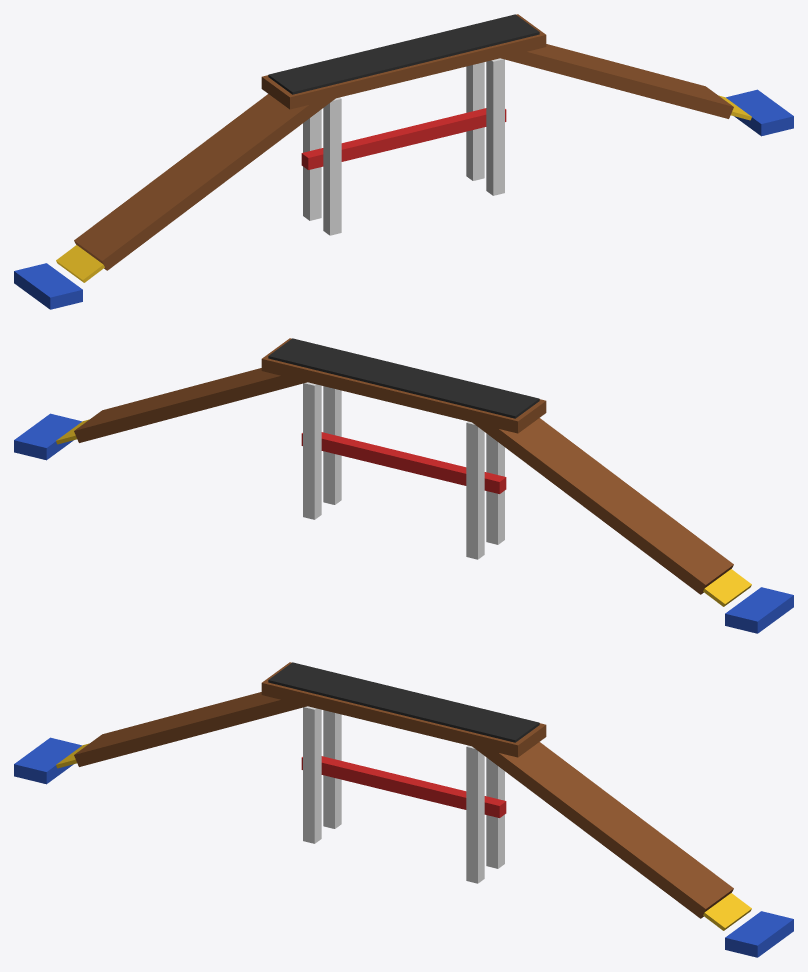
File: dog_dog_walk.obj
The picture shows the model from 3 angles, top to bottom: view 1: azimuth 30°, elevation 25°; view 2: azimuth 150°, elevation 25°; view 3: azimuth 330°, elevation 25°; orthographic projection.
Visible parts, largest first — view 1: left_ramp, center_grip, right_ramp, center_walk, center_support_cross, center_leg_0.7_0.15, center_leg_-0.7_0.15, left_foot, center_leg_0.7_-0.15, right_foot, center_leg_-0.7_-0.15, left_contact; view 2: left_ramp, center_grip, right_ramp, center_walk, center_support_cross, center_leg_0.7_-0.15, center_leg_-0.7_-0.15, left_foot, center_leg_0.7_0.15, right_foot, center_leg_-0.7_0.15, left_contact; view 3: right_ramp, center_grip, left_ramp, center_walk, center_support_cross, center_leg_-0.7_0.15, center_leg_0.7_0.15, right_foot, center_leg_-0.7_-0.15, left_foot, center_leg_0.7_-0.15, right_contact.
Part boxes in pixels (x1,y1,x2,y2): left_ramp: [74, 90, 336, 270]; center_grip: [268, 14, 539, 94]; right_ramp: [498, 44, 733, 118]; center_walk: [261, 14, 546, 109]; center_support_cross: [301, 108, 506, 169]; center_leg_0.7_0.15: [486, 58, 504, 195]; center_leg_-0.7_0.15: [323, 97, 341, 235]; left_foot: [14, 263, 82, 309]; center_leg_0.7_-0.15: [466, 62, 484, 180]; right_foot: [726, 89, 793, 136]; center_leg_-0.7_-0.15: [303, 109, 321, 220]; left_contact: [56, 245, 104, 282]; left_ramp: [470, 411, 733, 594]; center_grip: [268, 338, 539, 418]; right_ramp: [74, 368, 309, 442]; center_walk: [261, 338, 546, 433]; center_support_cross: [301, 432, 506, 493]; center_leg_0.7_-0.15: [303, 382, 321, 519]; center_leg_-0.7_-0.15: [466, 421, 484, 559]; left_foot: [725, 587, 793, 633]; center_leg_0.7_0.15: [323, 386, 341, 504]; right_foot: [14, 413, 81, 460]; center_leg_-0.7_0.15: [486, 433, 504, 544]; left_contact: [703, 569, 751, 606]; right_ramp: [470, 735, 733, 918]; center_grip: [268, 662, 539, 742]; left_ramp: [74, 692, 309, 766]; center_walk: [261, 662, 546, 757]; center_support_cross: [301, 756, 506, 817]; center_leg_-0.7_0.15: [303, 706, 321, 843]; center_leg_0.7_0.15: [466, 745, 484, 883]; right_foot: [725, 911, 793, 957]; center_leg_-0.7_-0.15: [323, 710, 341, 828]; left_foot: [14, 737, 81, 784]; center_leg_0.7_-0.15: [486, 757, 504, 868]; right_contact: [703, 893, 751, 930].
Bounding box in the file's own units: 6.38 × 1.25 × 0.54.
